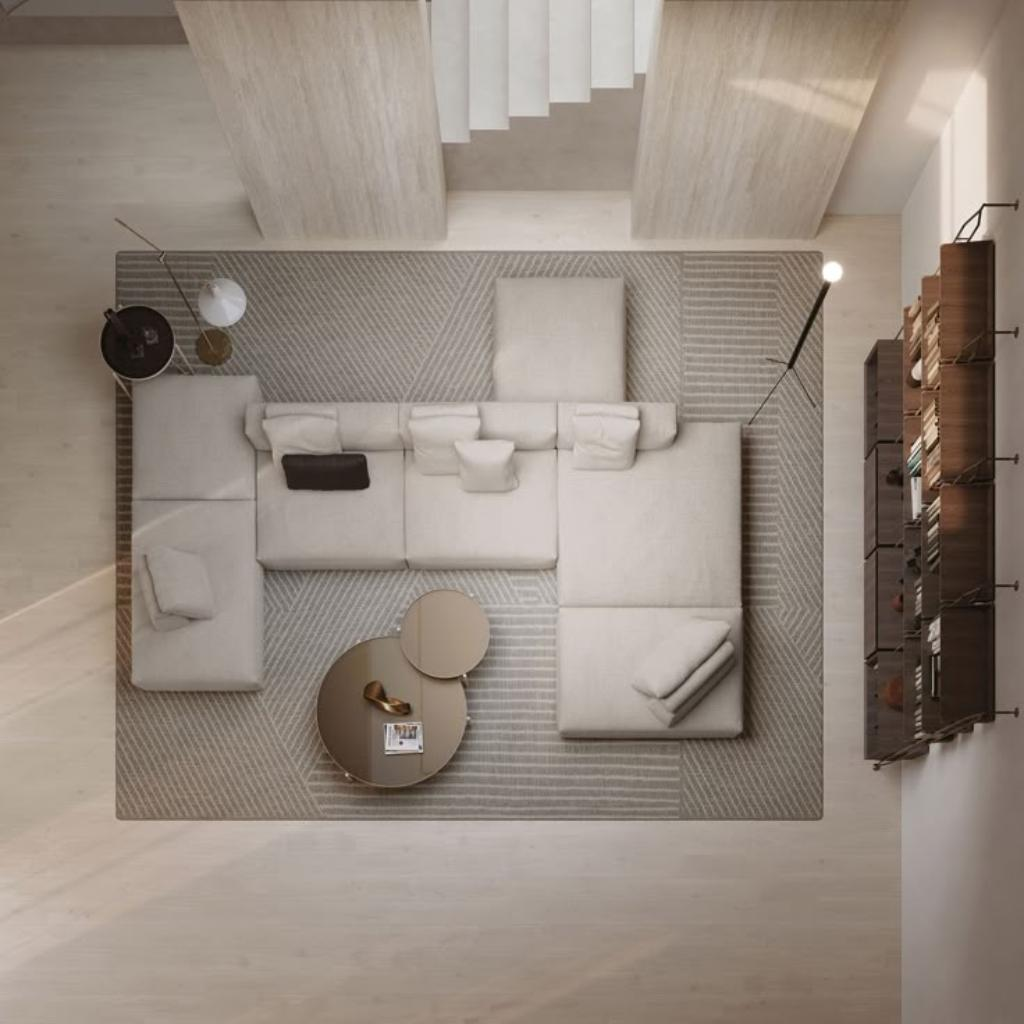bookshelf: (865, 236, 1013, 776)
chair-bed: (557, 406, 743, 600)
coffee table: (317, 589, 493, 791)
floor lamp: (754, 354, 816, 416), (190, 320, 240, 368)
ottoman: (561, 607, 741, 735), (132, 508, 256, 686), (496, 276, 622, 396), (134, 379, 254, 501)
rug: (108, 249, 826, 829)
side table: (110, 308, 178, 372)
sofa: (260, 400, 554, 564)
